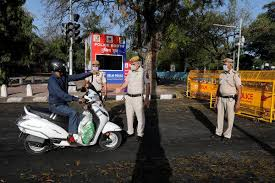mask: (54, 65, 70, 80), (127, 61, 141, 75), (221, 59, 235, 73), (91, 62, 100, 71)
